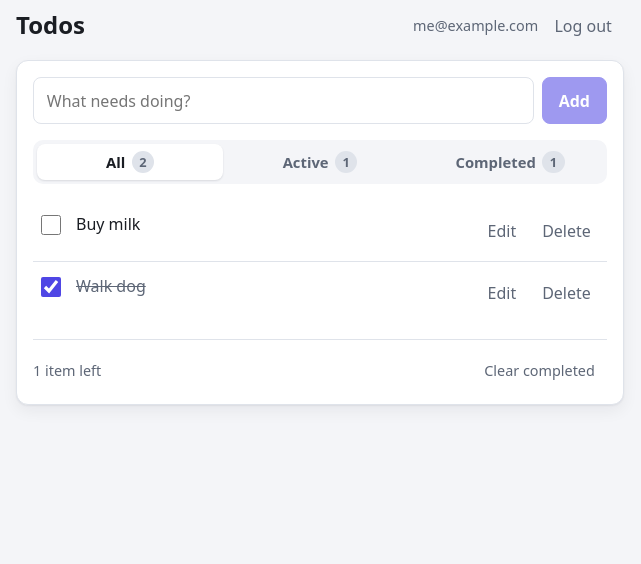
Test case: TodosPage › cancels editing with Escape and discards changes
Check: the text "Buy milk" is shown, box x1=76 y1=213 x2=140 y2=235
Click the button with aria-label "Edit “Buy milk”".
click(502, 231)  # box x1=475 y1=212 x2=528 y2=249
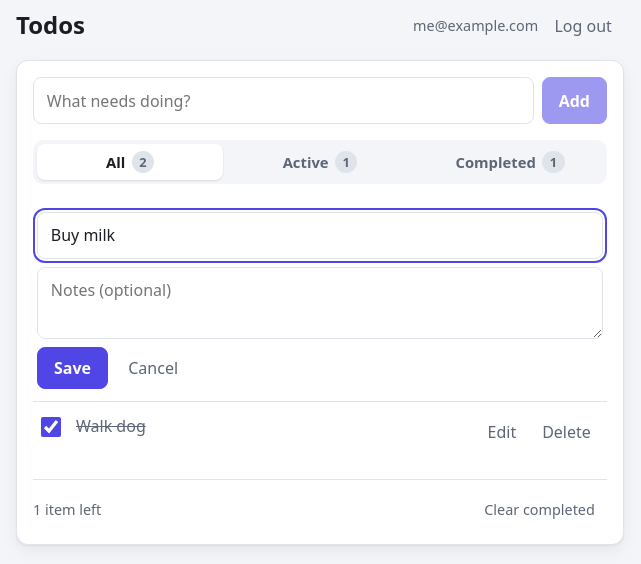
Type " extra" into the field named "Title".
click(320, 235); type(" extra")  # box x1=37 y1=212 x2=603 y2=259
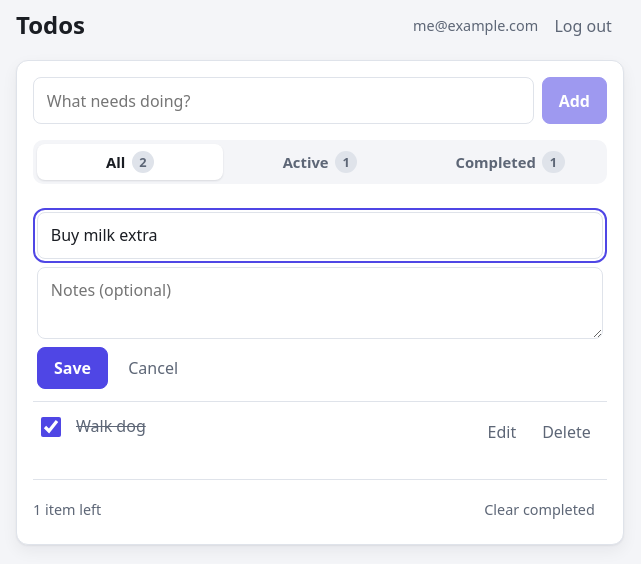
Press Escape
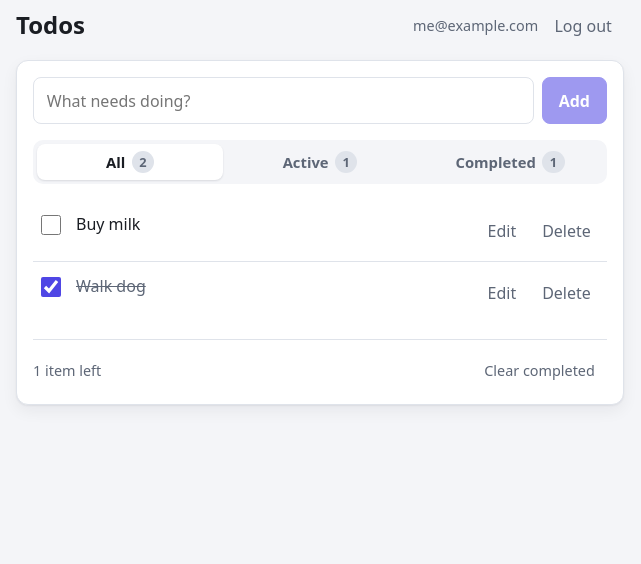
Check: the field labelled "Title" is not shown
Check: the text "Buy milk" is shown, box x1=76 y1=213 x2=140 y2=235
